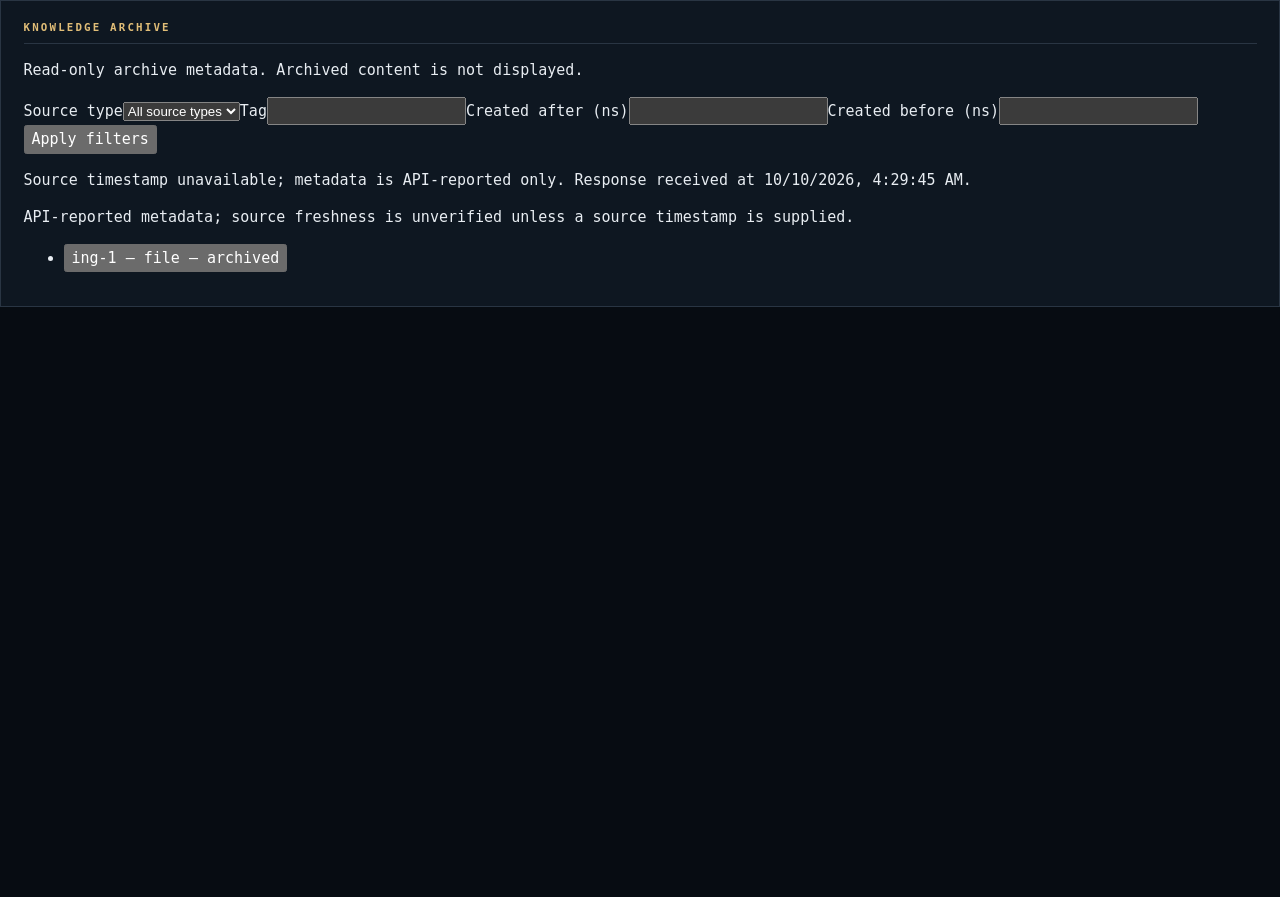
Scenario: KnowledgeArchiveView › replaces each unsafe response tag with a fixed marker and retains safe metadata
Click the button with aria-label "View ingestion ing-1" at (175, 258), box top-left (64, 244), bottom-right (287, 272)
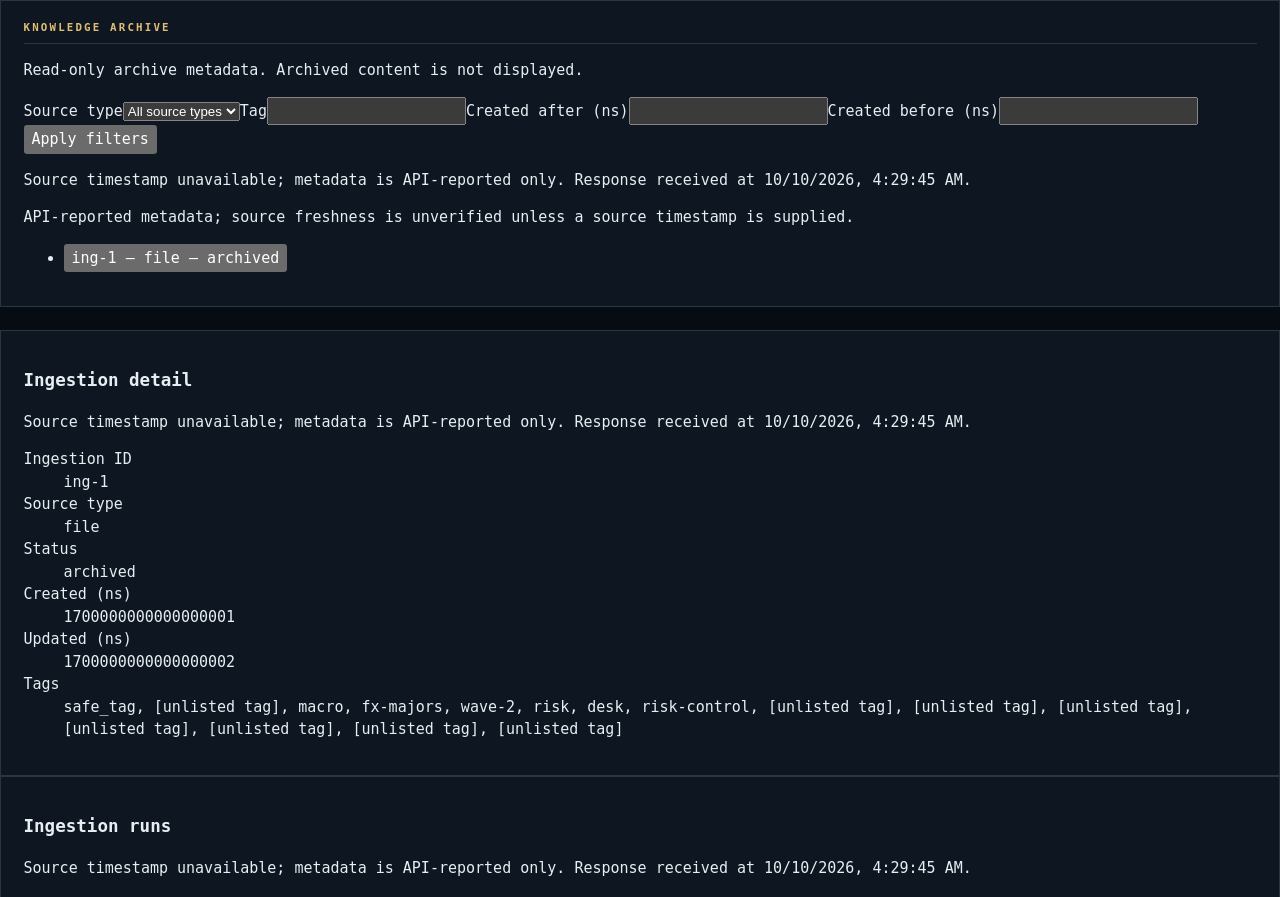
Result: the element "Ingestion detail" shows "[unlisted tag]" at top-left (64, 698), bottom-right (1192, 738)
Result: the element "Ingestion detail" shows "safe_tag" at top-left (64, 698), bottom-right (1192, 738)
Result: the element "Ingestion detail" shows "macro" at top-left (64, 698), bottom-right (1192, 738)
